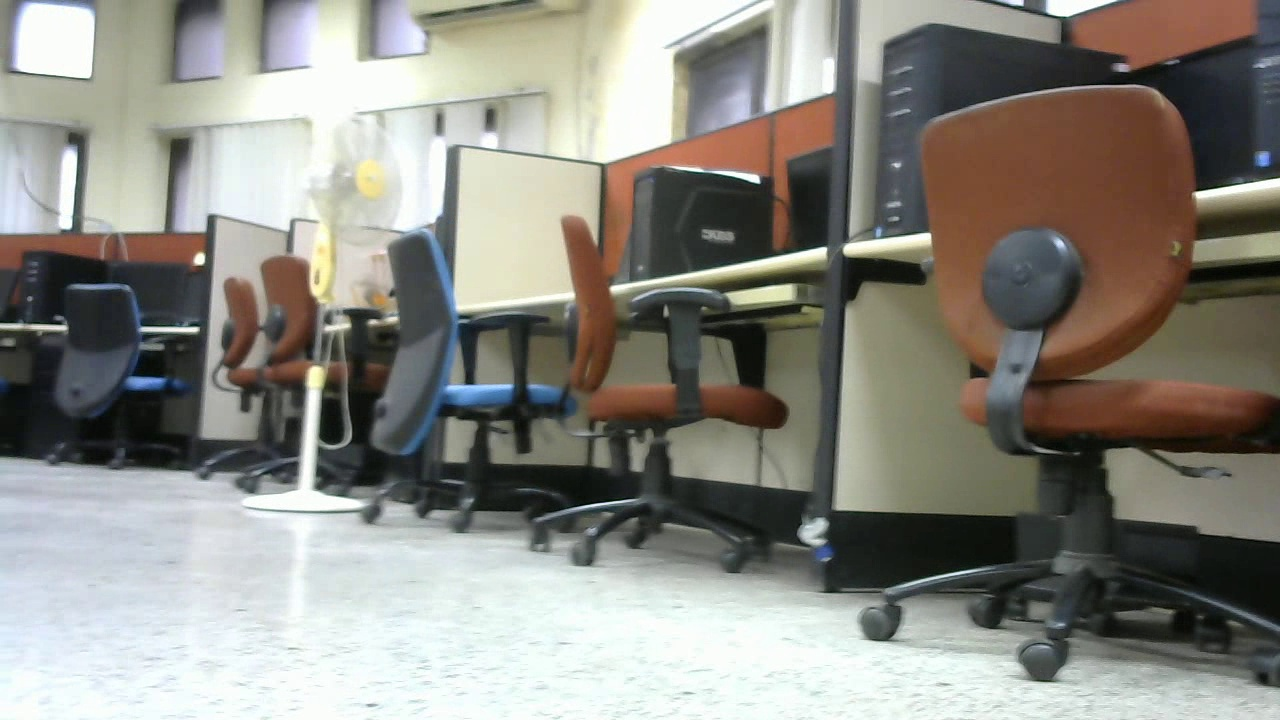chair: (856, 87, 1280, 684), (521, 213, 787, 576), (348, 230, 579, 547), (202, 255, 393, 493), (39, 277, 195, 475)
